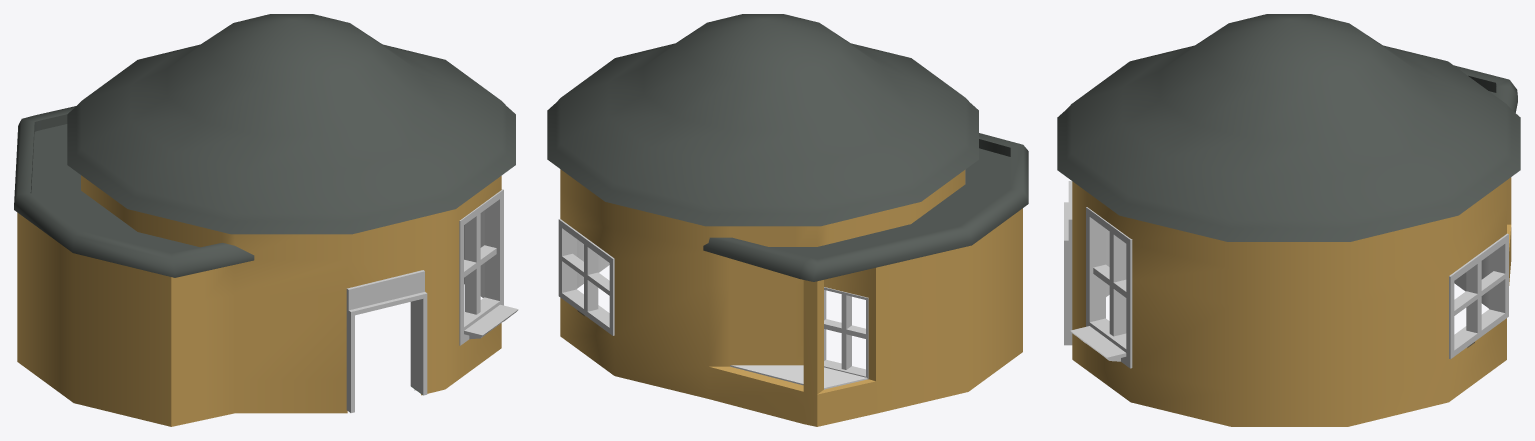
Rendered from NeedleLoft.fbx.
3 views of the same model, side by side, from view 1: azimuth 30°, elevation 25°; view 2: azimuth 150°, elevation 25°; view 3: azimuth 270°, elevation 25° (orthographic). The views are drawn at different scales.
Parts seen in each view (by area): view 1: NeedleLoft-Roof, NeedleLoft, Window-Tall, DoorOpening; view 2: NeedleLoft-Roof, NeedleLoft, Window-Small, Window-Garden, Garden; view 3: NeedleLoft-Roof, NeedleLoft, Window-Tall, Window-Small, DoorOpening.
Part boxes in pixels (x1,y1,x2,y2): NeedleLoft-Roof: [14, 14, 515, 277]; NeedleLoft: [17, 175, 501, 426]; Window-Tall: [459, 189, 518, 345]; DoorOpening: [346, 270, 427, 412]; NeedleLoft-Roof: [547, 14, 1028, 281]; NeedleLoft: [560, 169, 1022, 426]; Window-Small: [558, 219, 614, 335]; Window-Garden: [824, 287, 868, 379]; Garden: [730, 365, 867, 389]; NeedleLoft-Roof: [1057, 14, 1520, 241]; NeedleLoft: [1072, 177, 1511, 426]; Window-Tall: [1070, 207, 1132, 368]; Window-Small: [1449, 233, 1508, 359]; DoorOpening: [1064, 181, 1072, 345].
Size of the model in its own units: 4.67 by 3.08 by 4.11.
